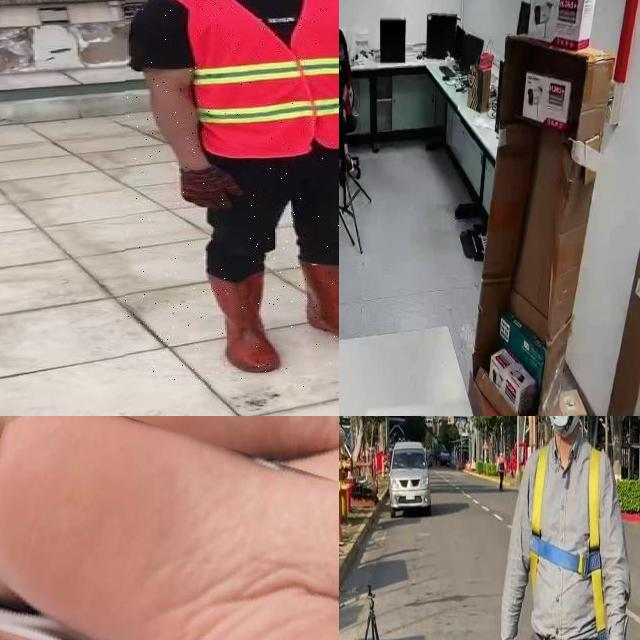Barefoots: (0, 416, 339, 640)
Harness: (532, 444, 606, 634)
boots: (207, 271, 283, 373), (298, 260, 339, 354)
face_nomask: (339, 43, 343, 61)
hand_noglove: (341, 105, 347, 123)
head_nohelmet: (339, 27, 346, 41)
person: (125, 0, 339, 387), (339, 31, 360, 188)
vest: (188, 0, 339, 157)
